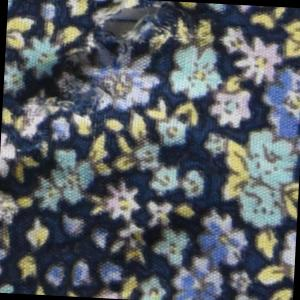Damage: (1, 1, 223, 169)
